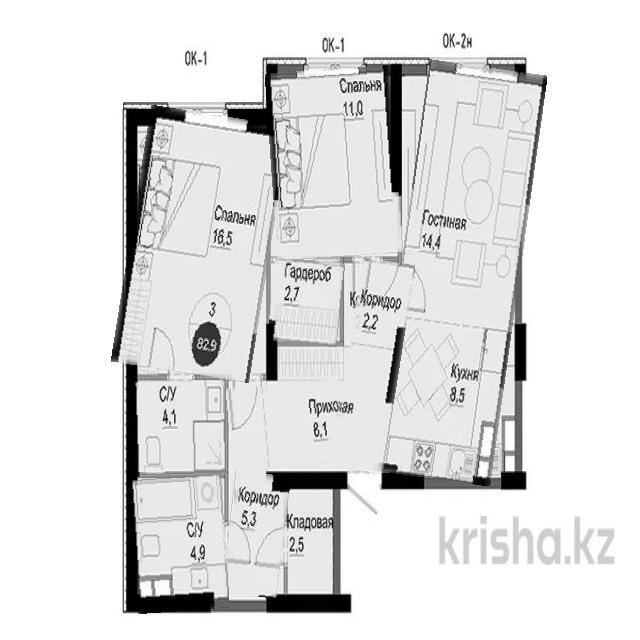bathroom: (132, 475, 228, 613), (131, 380, 226, 477)
hallway: (338, 259, 407, 472), (228, 382, 345, 470), (224, 472, 288, 597)
living_room: (120, 110, 280, 379), (268, 67, 401, 259)
other: (269, 258, 343, 346)
studio: (386, 62, 533, 483)
